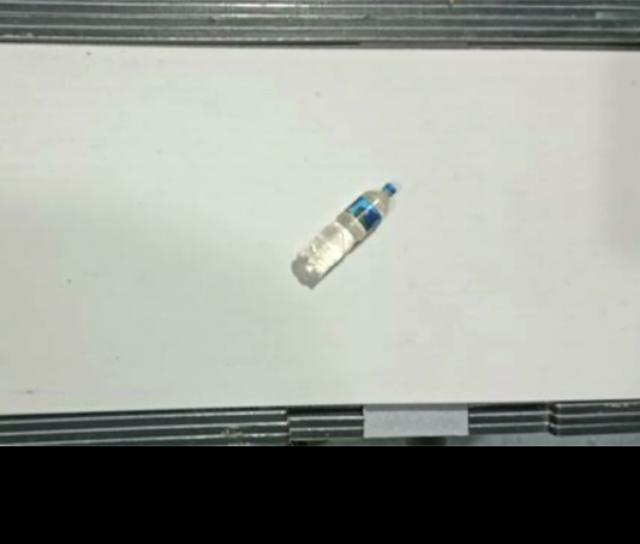Plastik: (295, 182, 397, 284)
